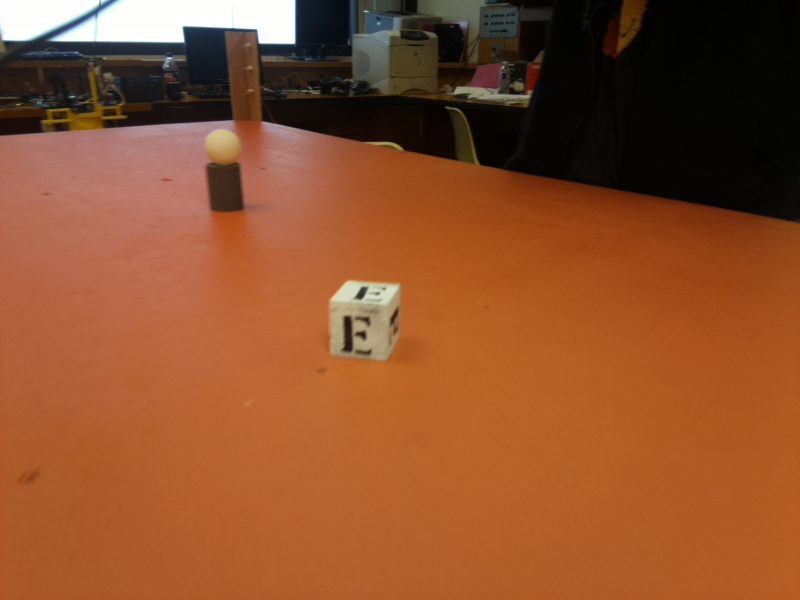blockE: (327, 279, 408, 358)
corner: (229, 30, 259, 122)
obstacle: (204, 128, 244, 214)
